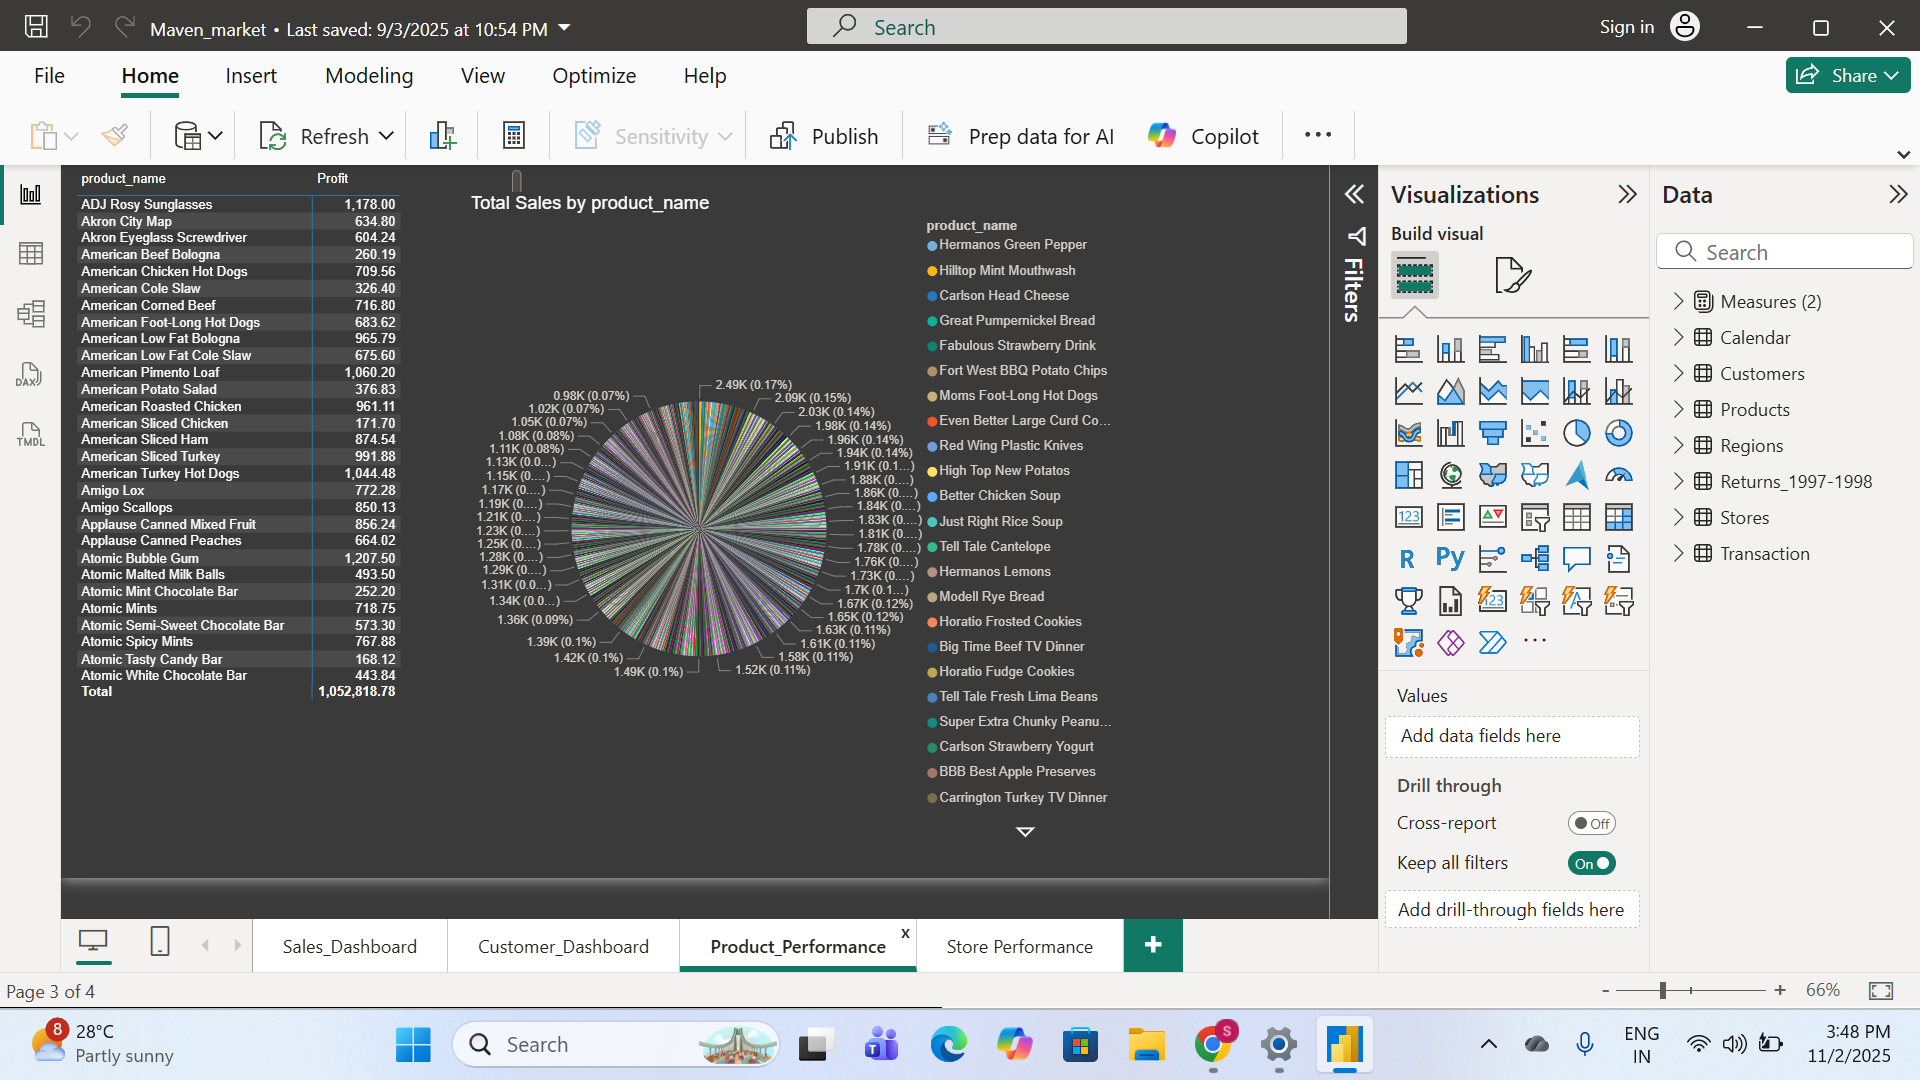

This screenshot's page, from the dashboard's own definition file:
{"tool":"powerbi","page":{"name":"Product_Performance","canvas":[1280,720],"ordinal":2},"visuals":[{"type":"pivotTable","fields":{"Rows":["Products.product_name"],"Values":["Measures (2).Profit"]},"box":[10.6,0,458.8,545.1],"z":0},{"type":"pieChart","fields":{"Category":["Products.product_name"],"Y":["Measures (2).Total Sales"]},"box":[408.8,27.3,667.8,658.7],"z":1000}]}

Visuals, with their boxes on the page's 1280x720 design canvas (x1, y1, x2, y2). These are canvas units, not pixel positions in the 1920x1080 screenshot, which may show the page scaled, cropped or inside an application window:
pivotTable - Products.product_name x Measures (2).Profit: 11,0,469,545
pieChart - Products.product_name x Measures (2).Total Sales: 409,27,1077,686
